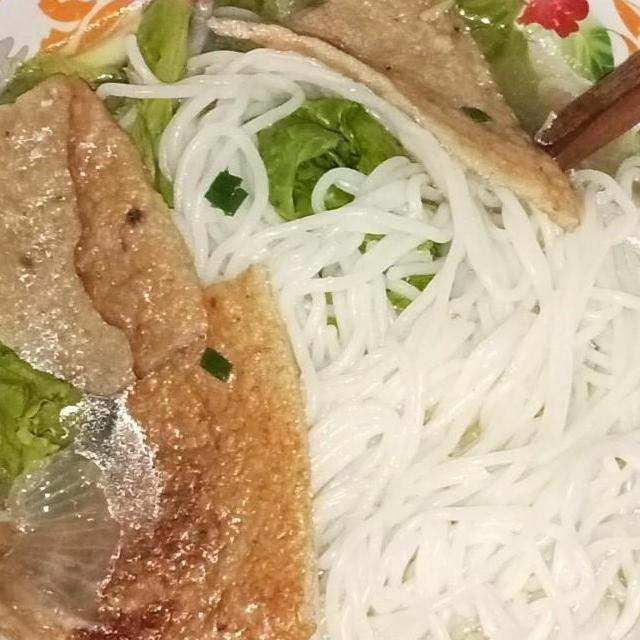bun: (81, 26, 640, 640)
